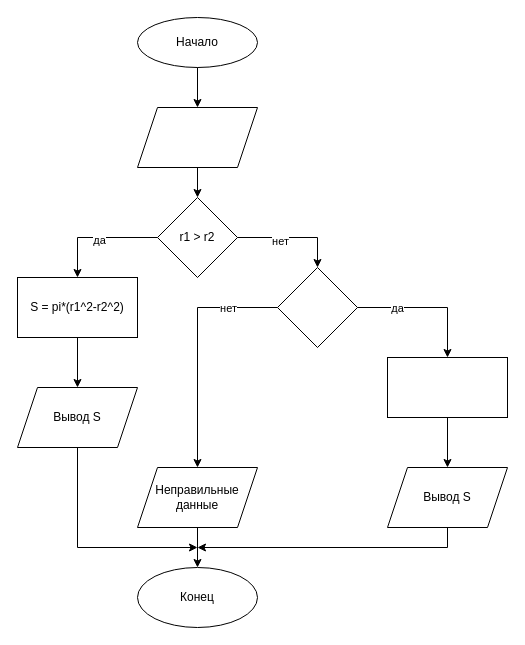
This 525x645 diagram has some shape labels left out. Here are the shapes that lost their labels. From the top down, the centre of each, then its label:
pixel 197 137: Ввод r1 и r2
pixel 317 307: r1 < r2
pixel 447 387: S = pi*(r2^2-r1^2)
